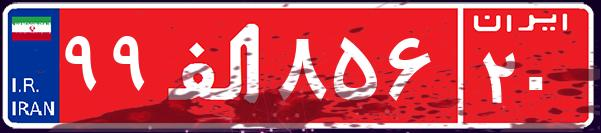0: (525, 38, 570, 115)
2: (475, 38, 525, 113)
5: (330, 28, 385, 110)
6: (385, 28, 445, 110)
8: (273, 28, 330, 110)
9: (57, 26, 110, 107), (110, 28, 158, 105)
الف: (158, 15, 273, 115)
